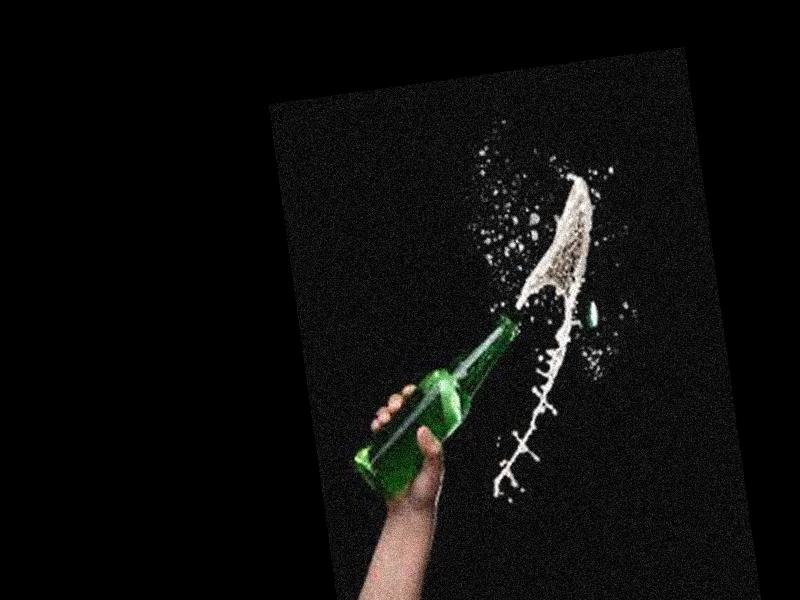Beer: (333, 314, 538, 504)
